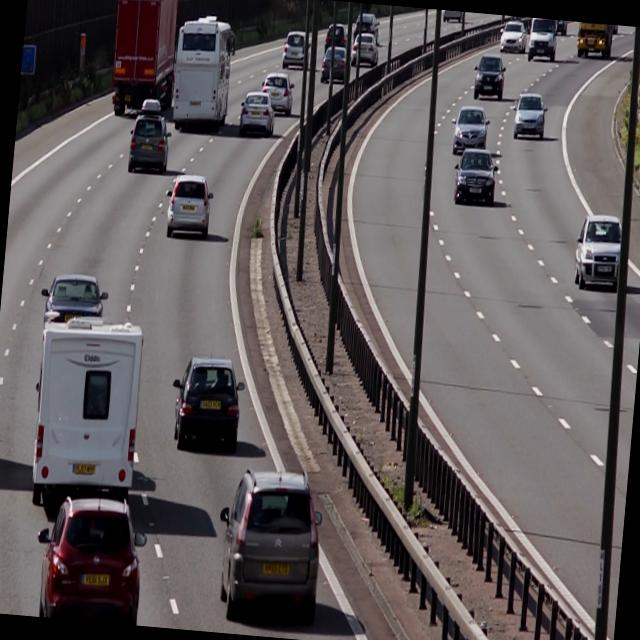Vehicle: (26, 306, 152, 512), (214, 468, 329, 626), (32, 492, 148, 626), (168, 15, 239, 137), (108, 0, 181, 118), (168, 356, 245, 456), (36, 266, 112, 344), (568, 212, 628, 294), (124, 96, 175, 174), (164, 175, 216, 246), (454, 144, 502, 206), (449, 102, 492, 156), (509, 88, 549, 145), (470, 51, 509, 106), (236, 90, 276, 138), (573, 22, 614, 64), (260, 69, 296, 115), (527, 17, 559, 64), (281, 28, 313, 74), (318, 44, 353, 86), (351, 29, 384, 67), (498, 15, 527, 54), (442, 10, 464, 22)
